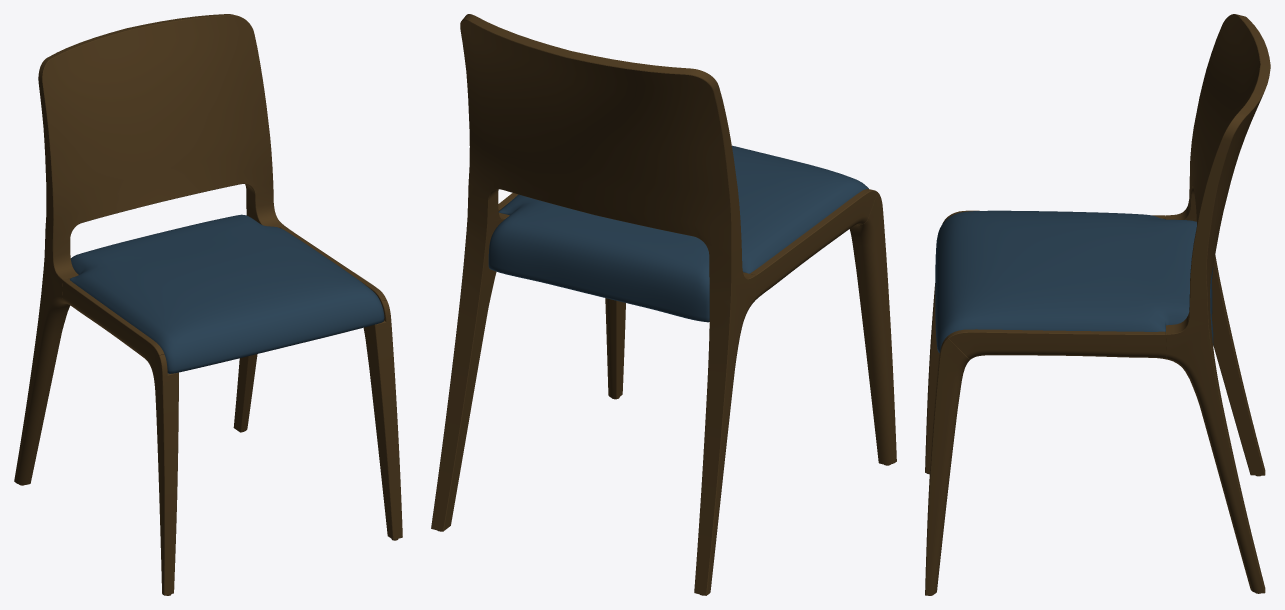
The model's file is Sedia2.fbx.
3 views of the same model, side by side, from view 1: azimuth 30°, elevation 25°; view 2: azimuth 150°, elevation 25°; view 3: azimuth 270°, elevation 25° (orthographic). The views are drawn at different scales.
Visible parts, largest first — view 1: Sedia2.001; view 2: Sedia2.001; view 3: Sedia2.001.
Boxes of the visible parts, box(x1,y1,x2,y2) form: Sedia2.001: box(14, 14, 402, 595); Sedia2.001: box(431, 14, 896, 595); Sedia2.001: box(925, 14, 1270, 595).
Size of the model in its own units: 46.97 by 80.27 by 53.57.
